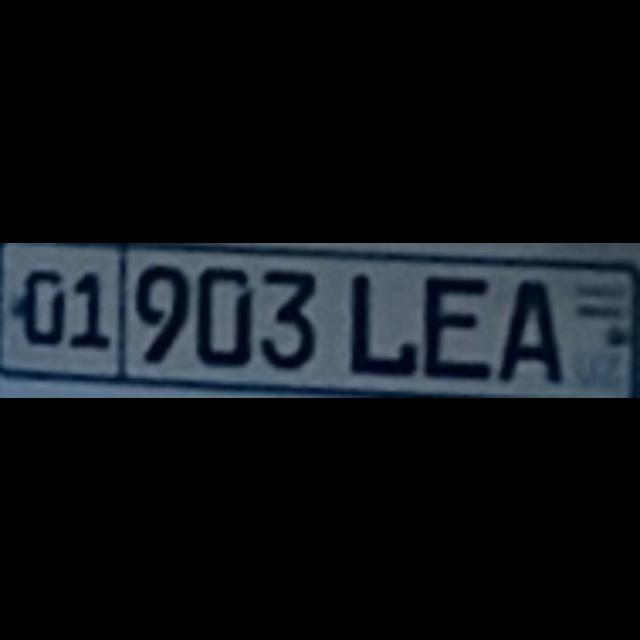0: (189, 259, 247, 361), (17, 262, 61, 340)
1: (64, 269, 106, 343)
3: (257, 262, 311, 364)
9: (129, 259, 183, 361)
A: (491, 272, 555, 378)
E: (420, 270, 484, 374)
L: (342, 269, 410, 371)
